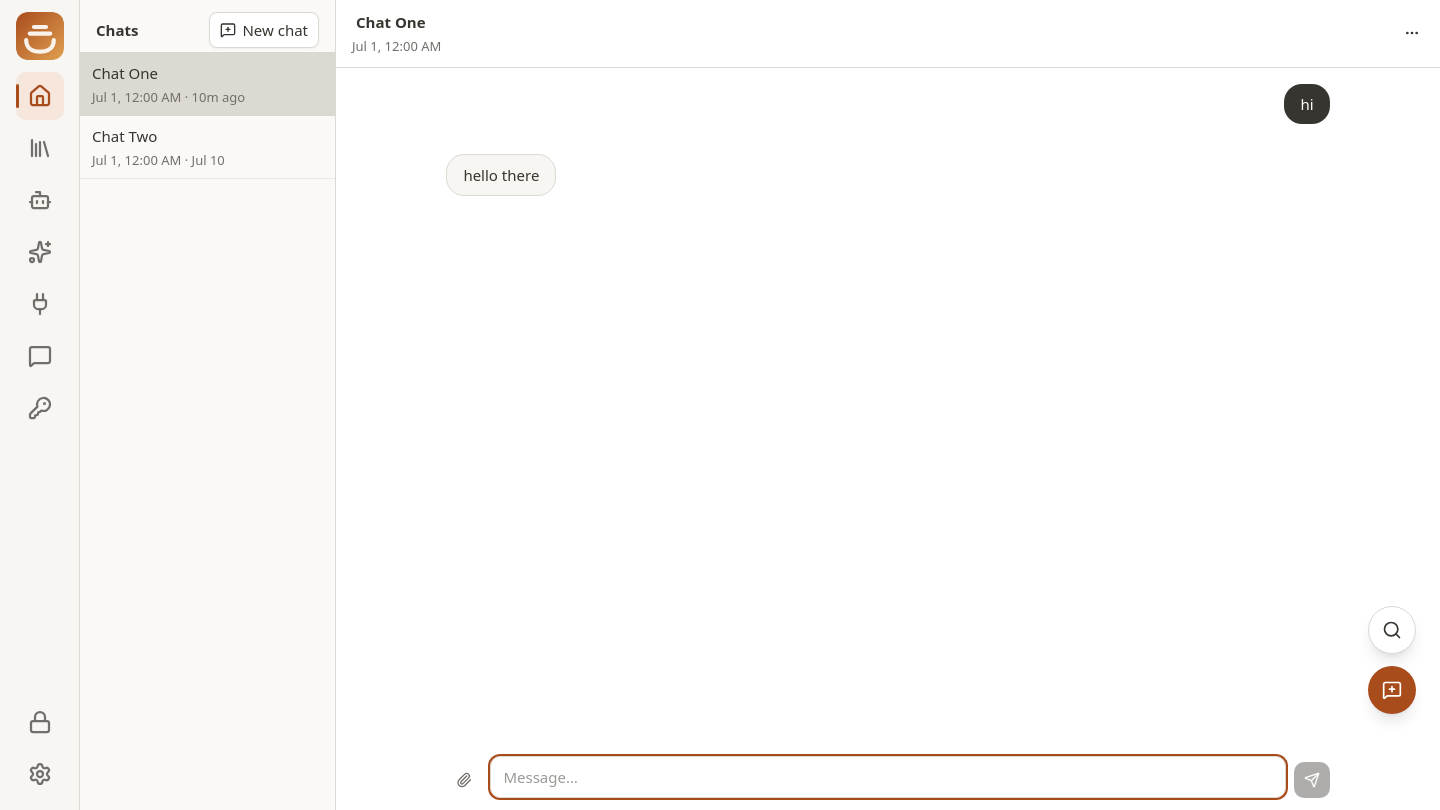
Test: send round-trip: optimistic user bubble appears immediately, assistant bubble after resolution
The width and height of the screenshot is (1440, 810).
Expected: the text "hi" is shown, [1300,92,1314,116]
In the text box: coordinates (888, 777) [490,756,1286,798], type "what's up"
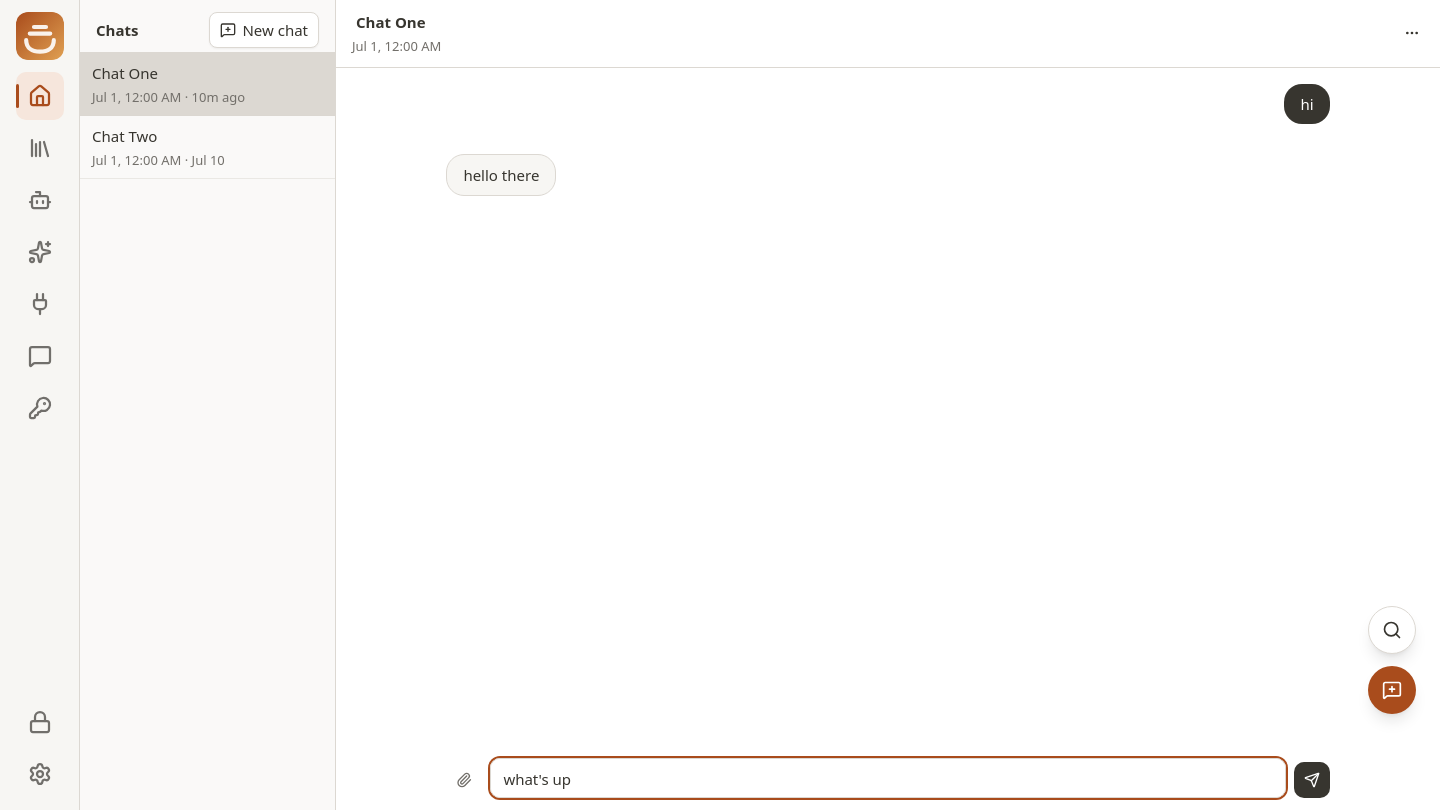
Press Enter in the text box, box [490,758,1286,798]
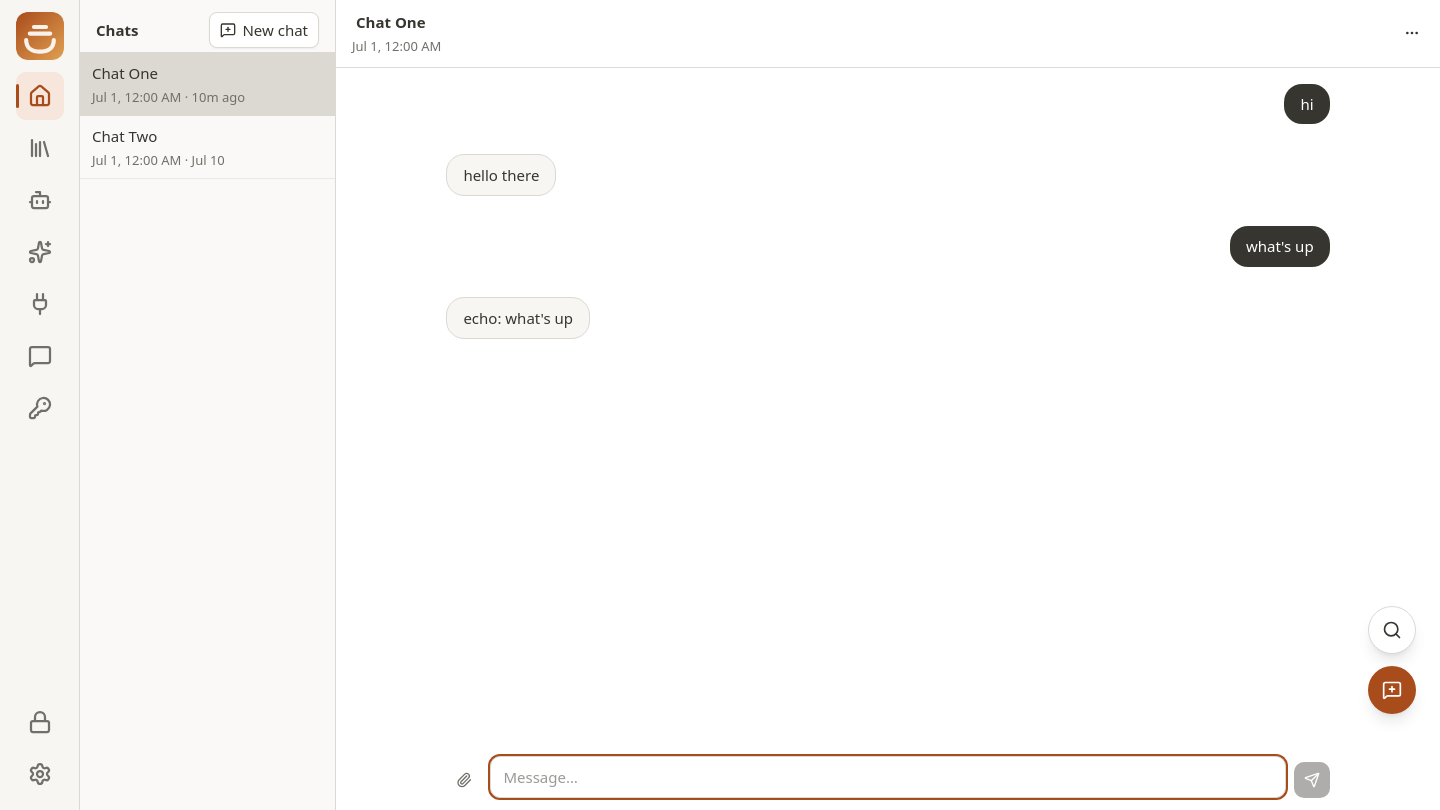
Expected: the text "what's up" is shown once, [1246,234,1314,259]
Expected: the text "echo: what's up" is shown once, [463,306,573,330]
